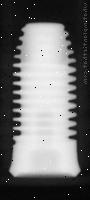BioHorizons: (9, 21, 81, 177)
